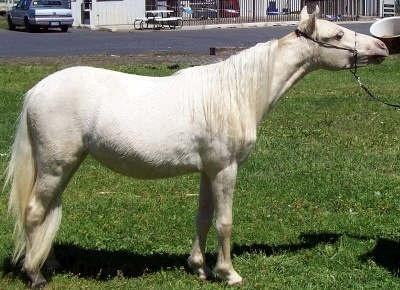car: (7, 1, 76, 34)
horse: (1, 6, 391, 287)
